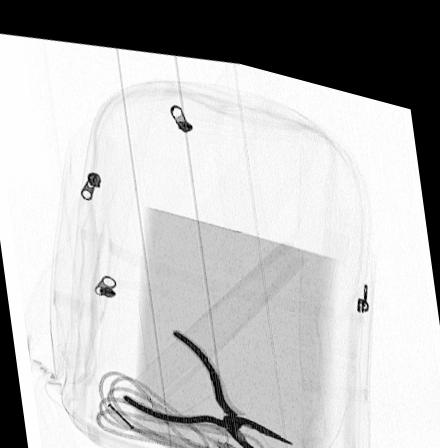Pliers: (119, 319, 297, 448)
